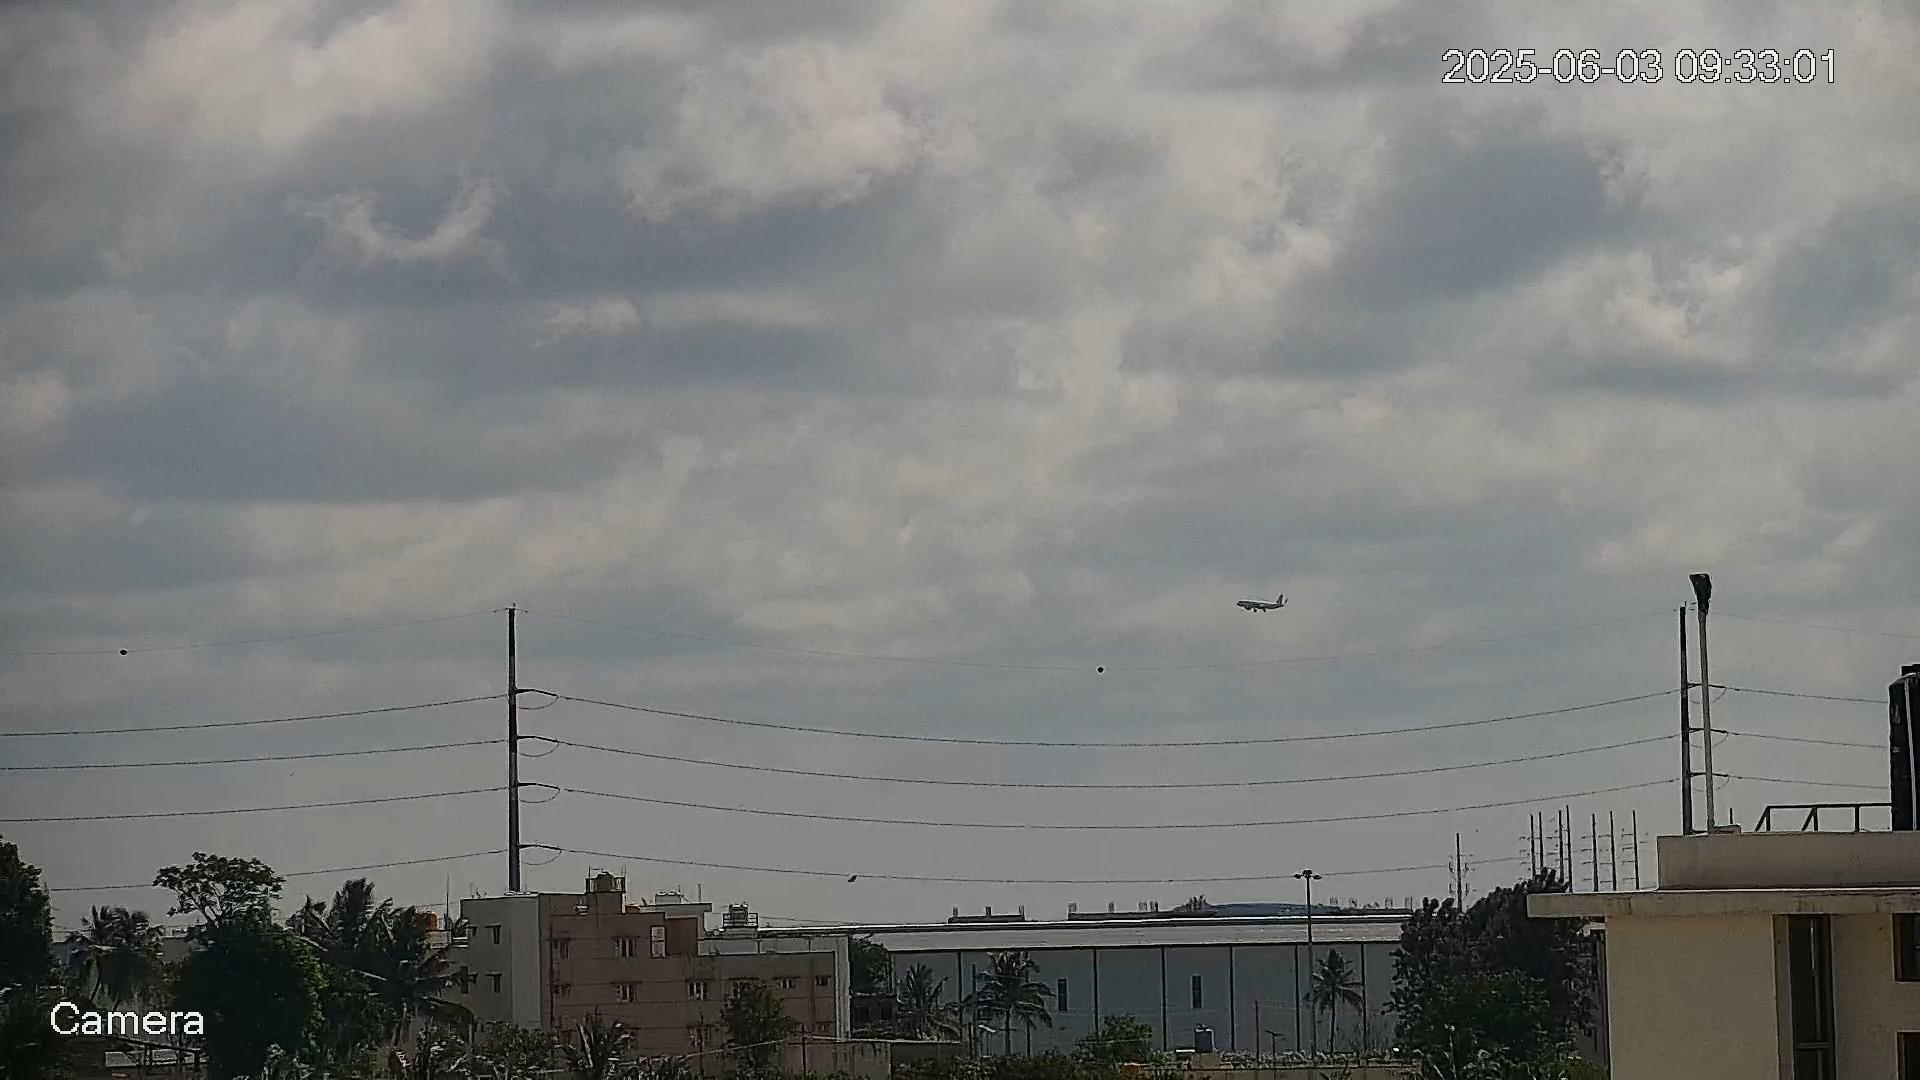Aircraft: (1236, 591, 1290, 613)
